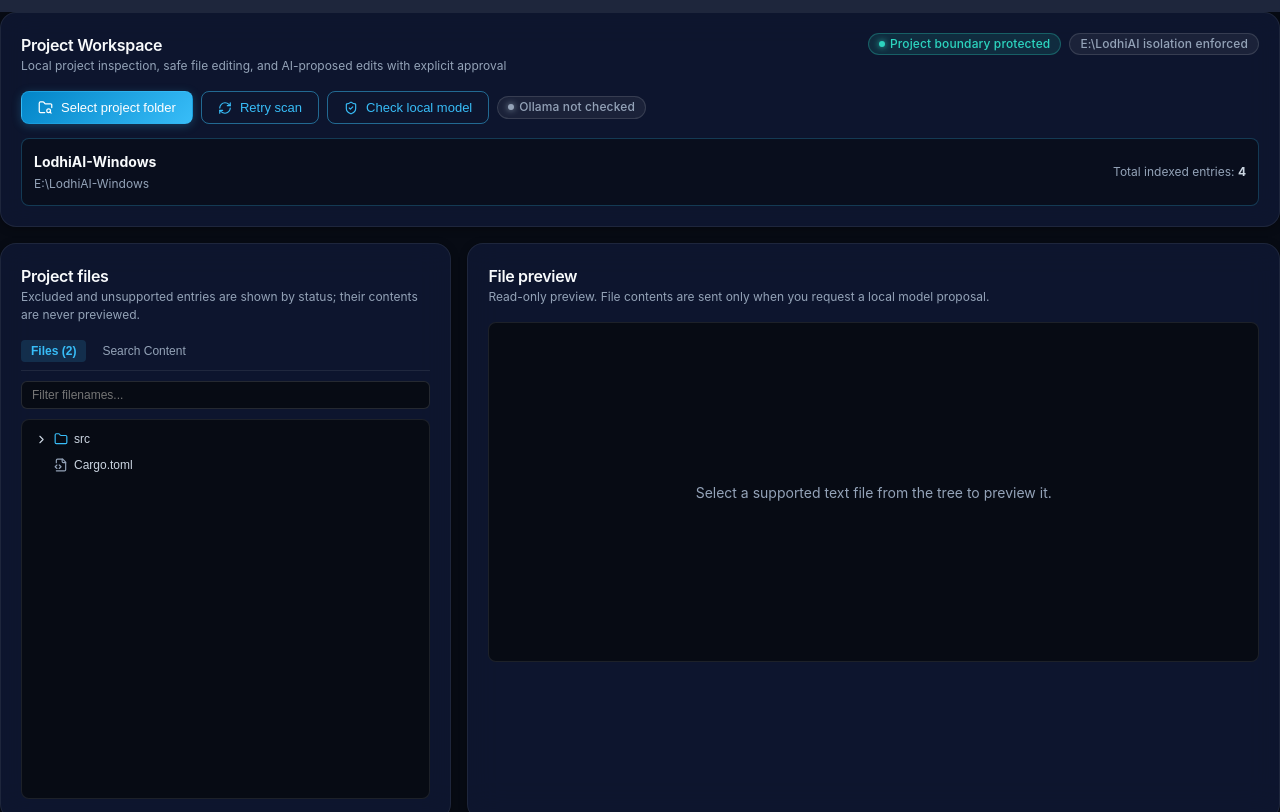
Test: Phase 2 — Project Workspace & Safe File Operations › allows discarding an AI code proposal safely with no file changes
The width and height of the screenshot is (1280, 812).
Click the list item "Cargo.toml" at (103, 465), box [28,452,423,478]
(page scrolled)
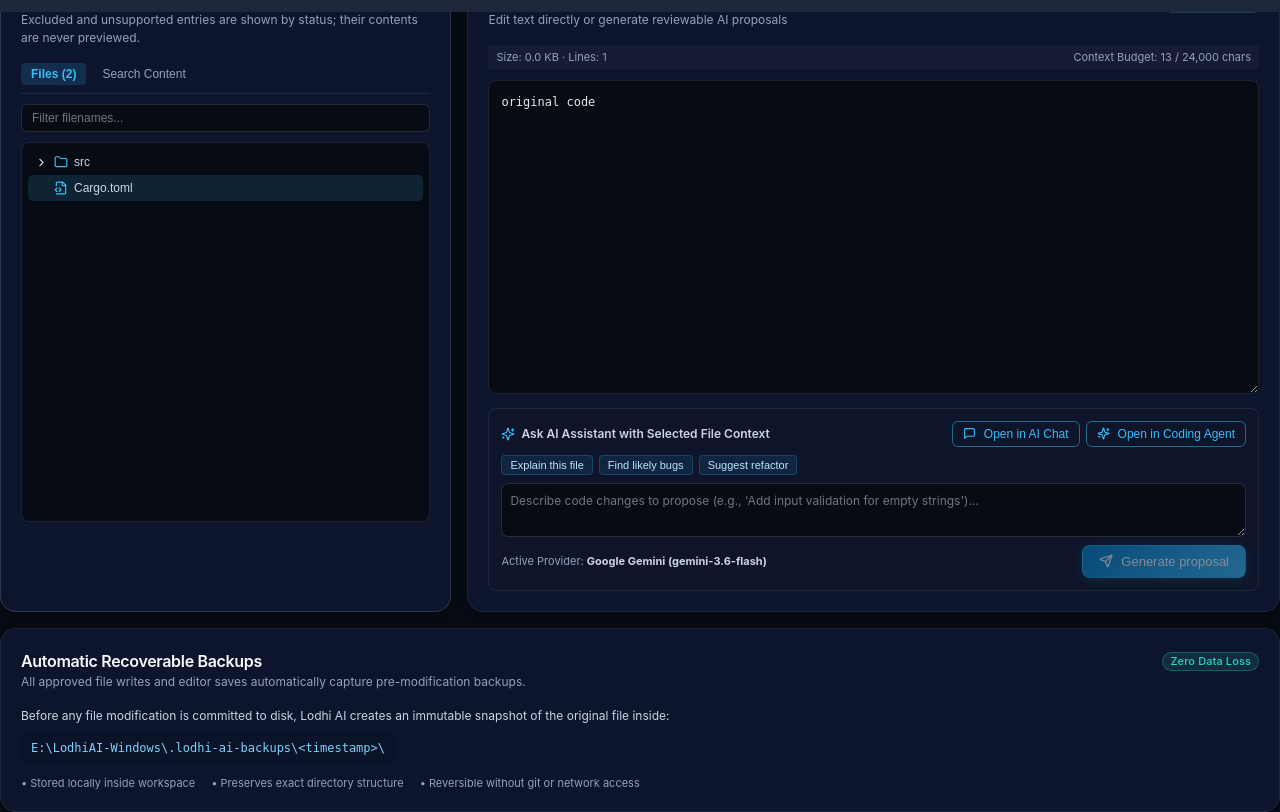
expect the text box showing "original code" is shown: met, box [488,80,1259,394]
Replace the text in the text box with placeholder "Describe code changes to propose" with "change code" at (874, 510), box [501,482,1246,536]
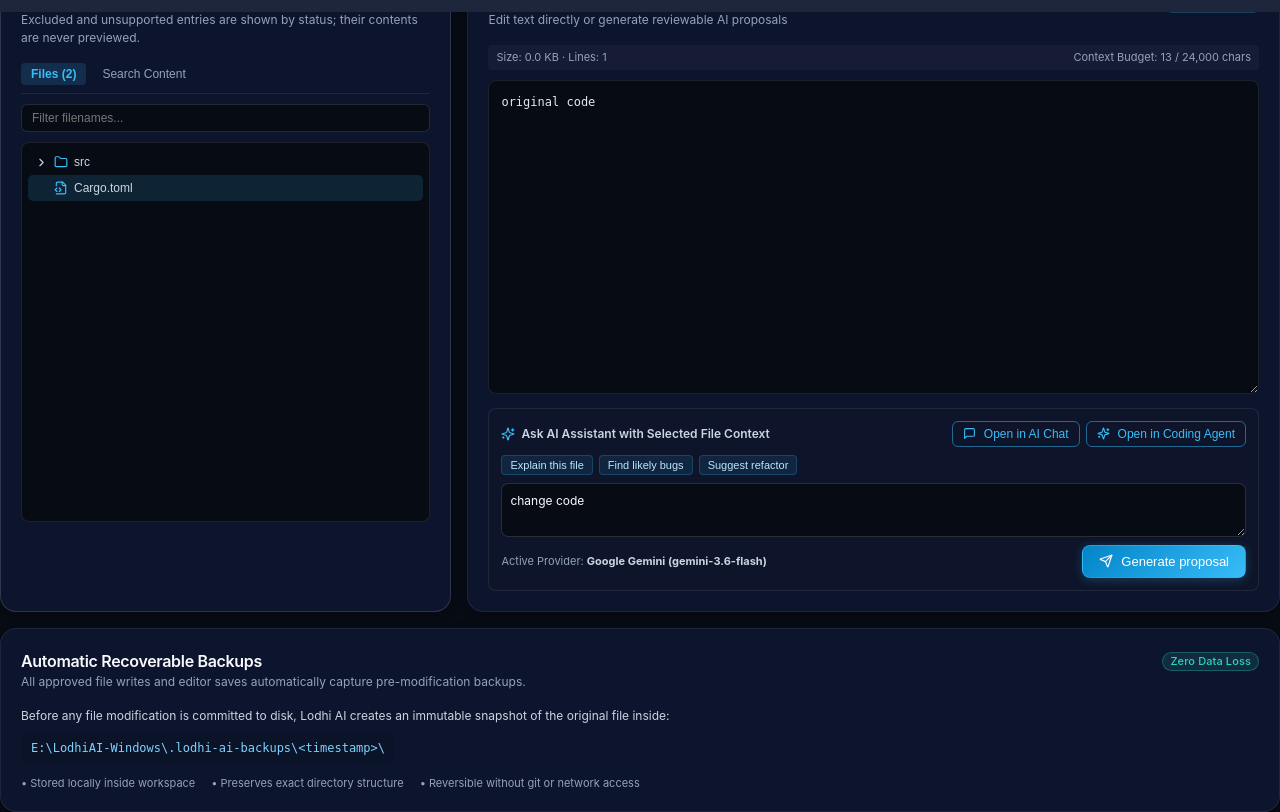
Click the button "Generate proposal" at (1164, 561), box [1082,544,1246,578]
(page scrolled)
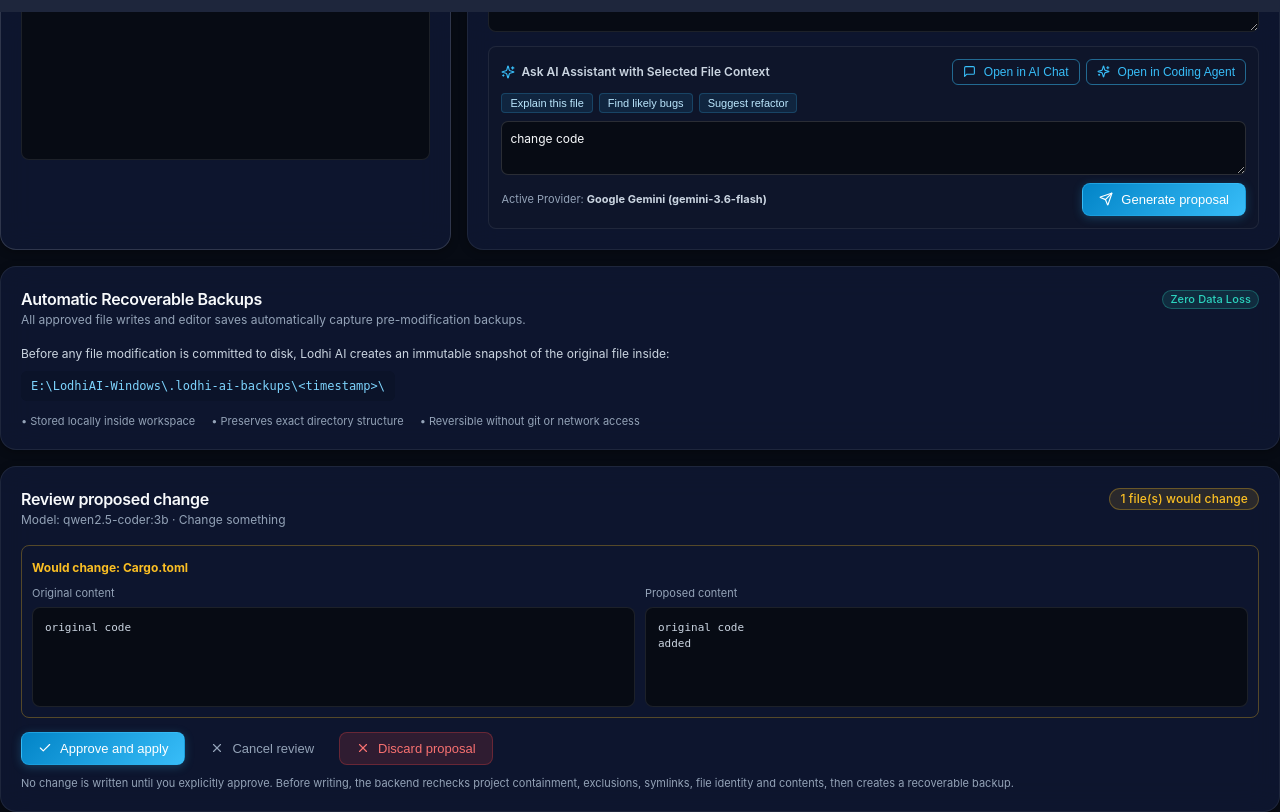
expect the heading "Review proposed change" is shown: met, box [21,489,209,509]
Click the button "Discard proposal" at (416, 748), box [339,732,493,764]
(page scrolled)
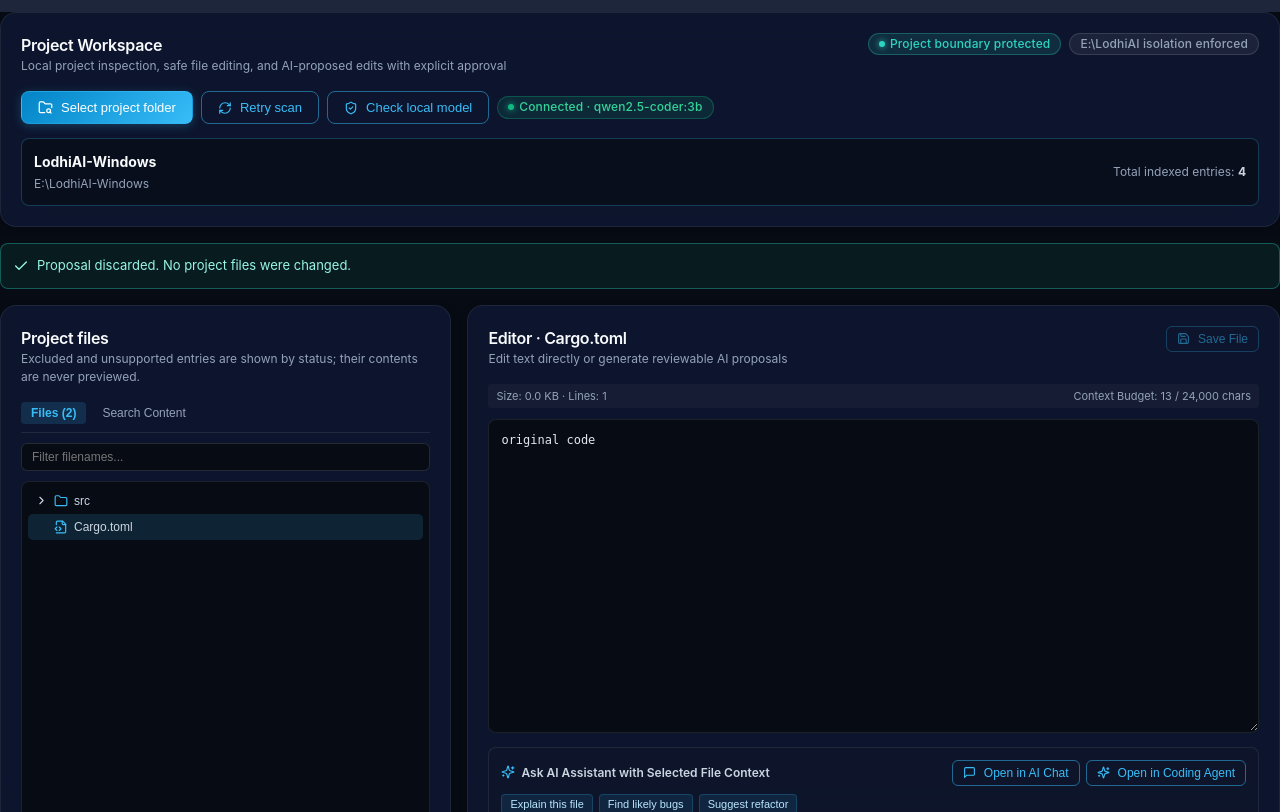
expect the text "Proposal discarded. No project files were changed." is shown: met, box [37,256,351,276]
expect the heading "Review proposed change" is gone: met
